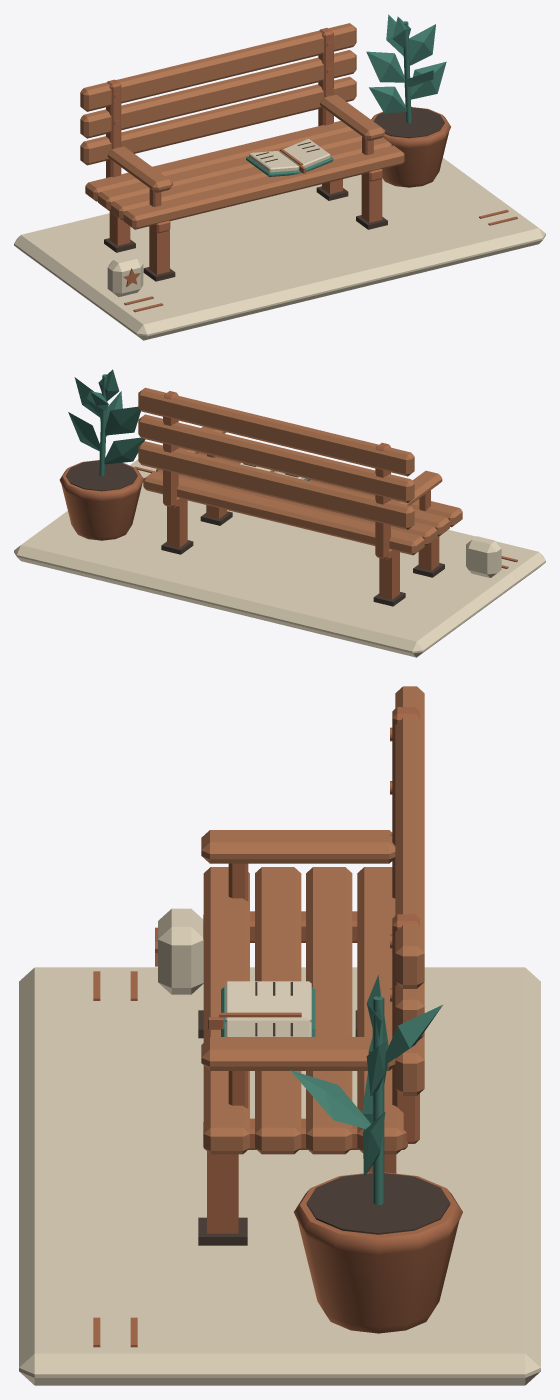
Rendered from erinnerungsplatz.glb.
3 views of the same model, one above another, from view 1: azimuth 30°, elevation 25°; view 2: azimuth 150°, elevation 25°; view 3: azimuth 270°, elevation 25° (orthographic). The views are drawn at different scales.
Visible parts, largest first — view 1: erinnerungsplatz_stein, erinnerungsplatz_holz, erinnerungsplatz_kupfer, erinnerungsplatz_gruen, erinnerungsplatz_dunkel; view 2: erinnerungsplatz_stein, erinnerungsplatz_holz, erinnerungsplatz_kupfer, erinnerungsplatz_gruen, erinnerungsplatz_dunkel; view 3: erinnerungsplatz_stein, erinnerungsplatz_holz, erinnerungsplatz_kupfer, erinnerungsplatz_dunkel, erinnerungsplatz_gruen.
Part boxes in pixels (x1=…): erinnerungsplatz_stein: x1=14, y1=139, x2=545, y2=340; erinnerungsplatz_holz: x1=80, y1=23, x2=404, y2=229; erinnerungsplatz_kupfer: x1=106, y1=28, x2=517, y2=312; erinnerungsplatz_gruen: x1=246, y1=14, x2=446, y2=176; erinnerungsplatz_dunkel: x1=104, y1=107, x2=444, y2=281; erinnerungsplatz_stein: x1=14, y1=459, x2=545, y2=657; erinnerungsplatz_holz: x1=138, y1=387, x2=462, y2=555; erinnerungsplatz_kupfer: x1=59, y1=391, x2=517, y2=599; erinnerungsplatz_gruen: x1=68, y1=369, x2=310, y2=480; erinnerungsplatz_dunkel: x1=66, y1=460, x2=444, y2=606; erinnerungsplatz_stein: x1=19, y1=908, x2=540, y2=1385; erinnerungsplatz_holz: x1=201, y1=686, x2=424, y2=1154; erinnerungsplatz_kupfer: x1=93, y1=707, x2=462, y2=1347; erinnerungsplatz_dunkel: x1=198, y1=982, x2=450, y2=1245; erinnerungsplatz_gruen: x1=221, y1=975, x2=442, y2=1204.
Bounding box in the file's own units: 4.8 × 2 × 2.65.
